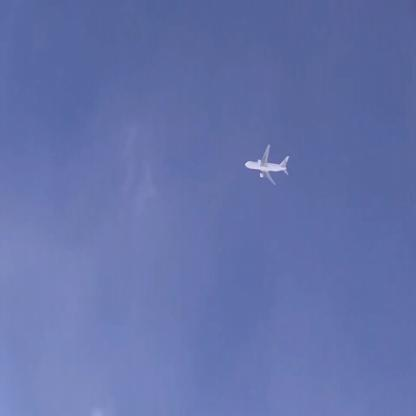CIV_Plane: (244, 146, 290, 186)
